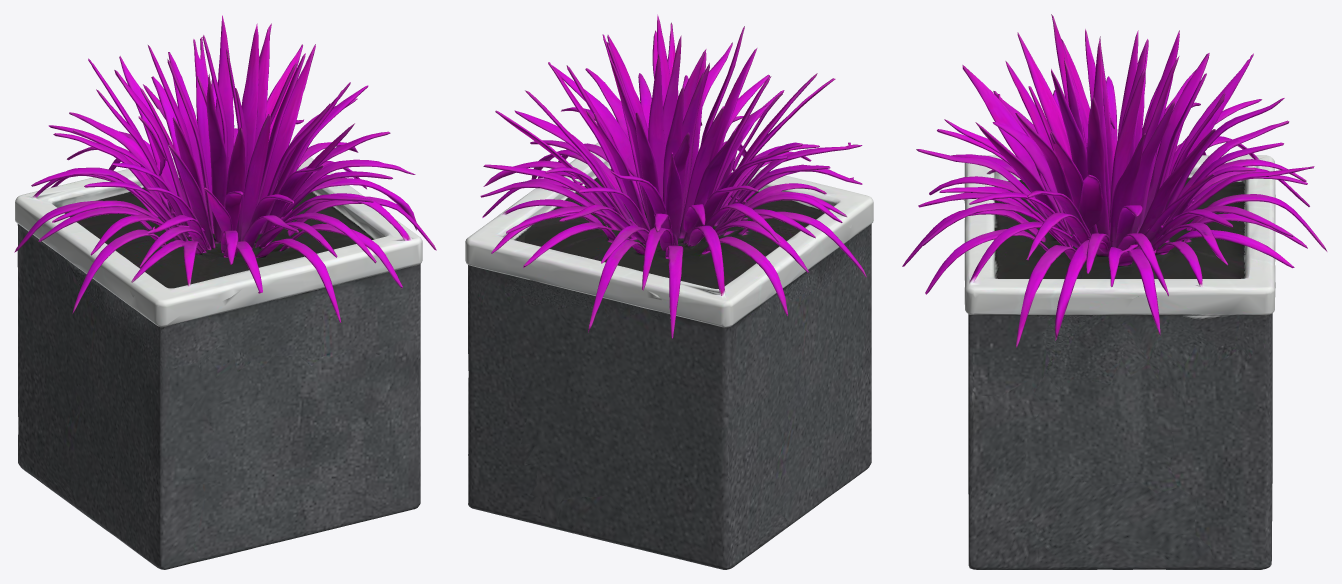
Rendered from planter.glb.
3 renders of one model, left to right at view 1: azimuth 30°, elevation 25°; view 2: azimuth 150°, elevation 25°; view 3: azimuth 270°, elevation 25°, orthographic. The views are drawn at different scales.
Visible parts, largest first — view 1: tripo_node_a51831b2-c2d1-4f7b-86c6-acb5b26ca5cb; view 2: tripo_node_a51831b2-c2d1-4f7b-86c6-acb5b26ca5cb; view 3: tripo_node_a51831b2-c2d1-4f7b-86c6-acb5b26ca5cb.
Boxes of the visible parts, x1,y1,x2,y2 form: tripo_node_a51831b2-c2d1-4f7b-86c6-acb5b26ca5cb: (14, 15, 436, 569); tripo_node_a51831b2-c2d1-4f7b-86c6-acb5b26ca5cb: (465, 14, 873, 569); tripo_node_a51831b2-c2d1-4f7b-86c6-acb5b26ca5cb: (902, 14, 1327, 569).
Size of the model in its own units: 0.779 by 0.9801 by 0.8062.
1 material, 1 textured.
